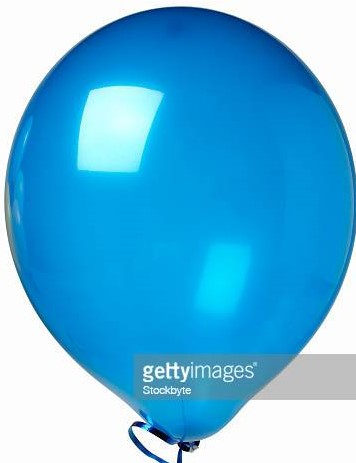Balloon: (4, 6, 356, 442)
